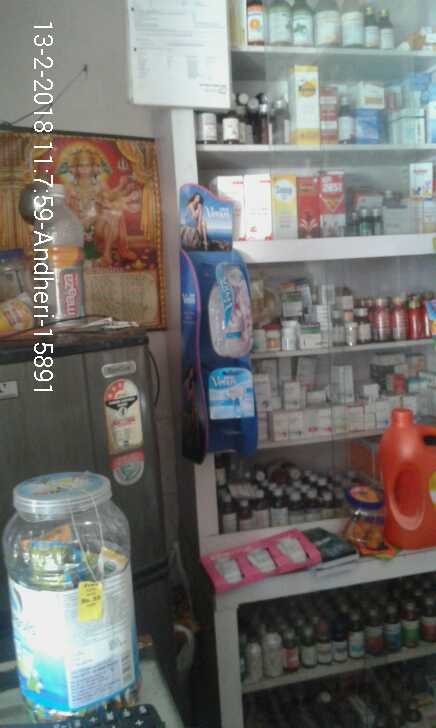beauty: (200, 265, 253, 359), (207, 365, 261, 420)
